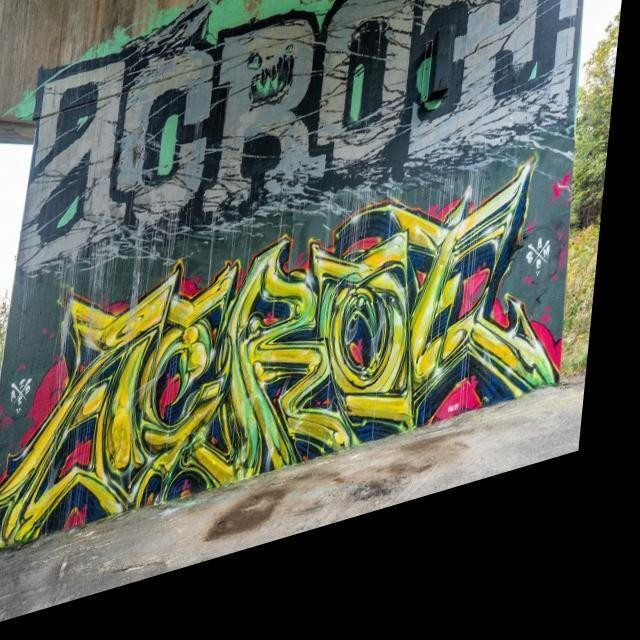-: (0, 191, 595, 569), (31, 0, 602, 314), (532, 260, 564, 318), (14, 369, 46, 426)
